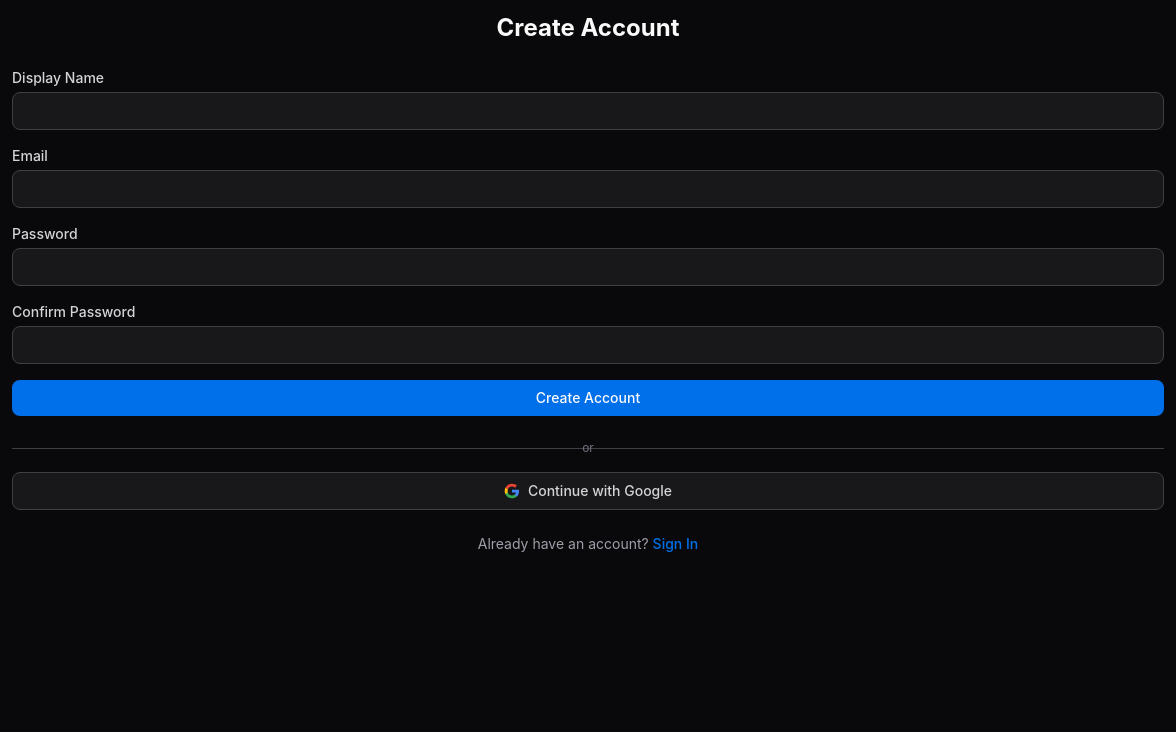
RegisterPage › should show generic error for unexpected errors
Type "test@example.com" into the field with id "email" at (588, 189), box 12,170 -> 1164,208
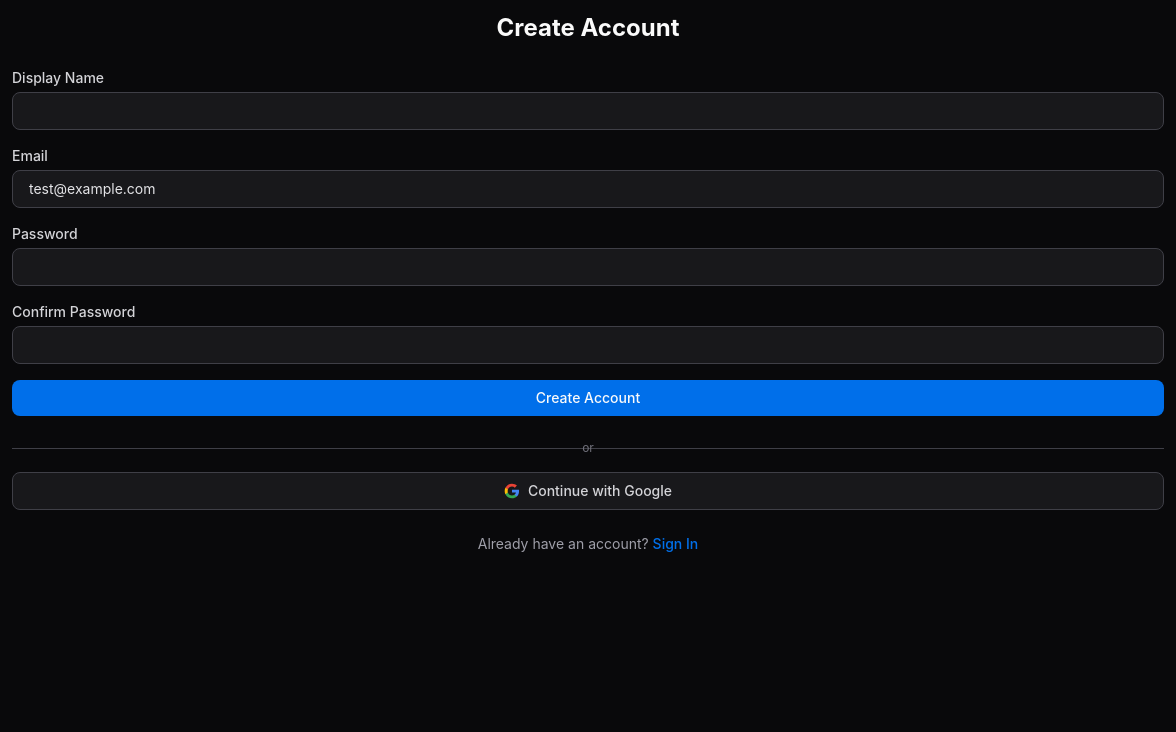
Type "securepass" into the password field labelled "Password" at (588, 267), box 12,248 -> 1164,286
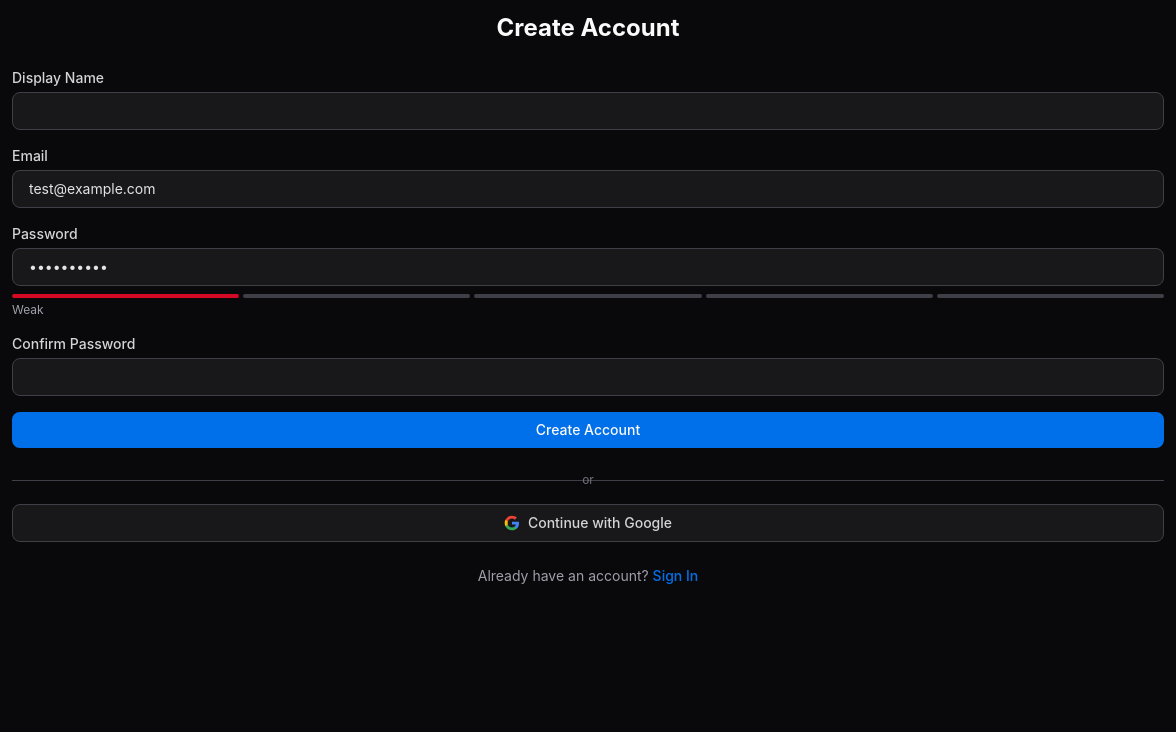
Type "securepass" into the password field with id "confirmPassword" at (588, 377), box 12,358 -> 1164,396
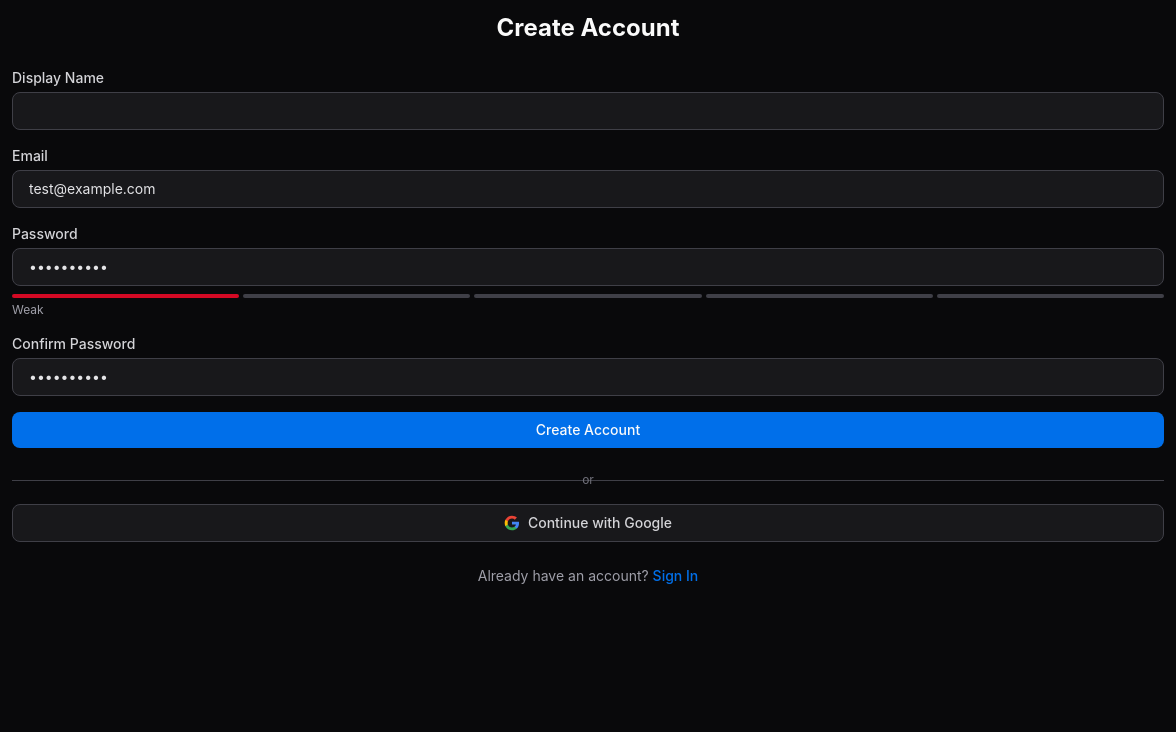
Submit the form, box 12,68 -> 1164,448
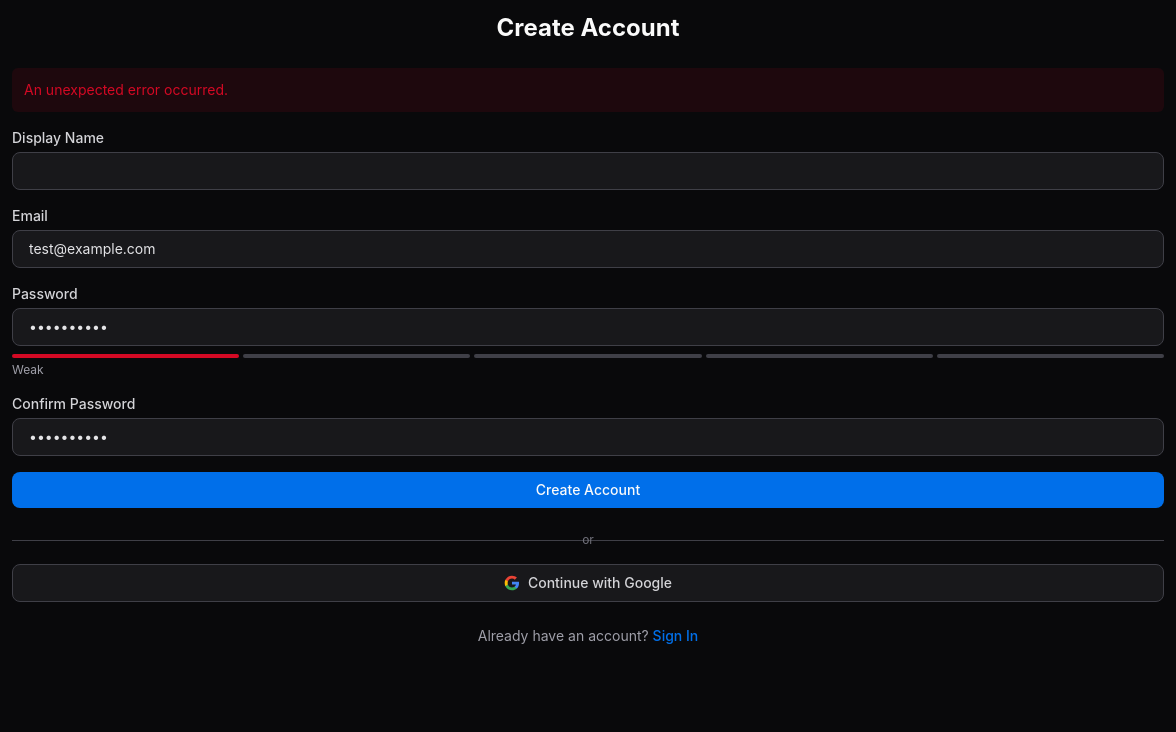
Now the text "An unexpected error occurred." is shown, box 12,68 -> 1164,112
